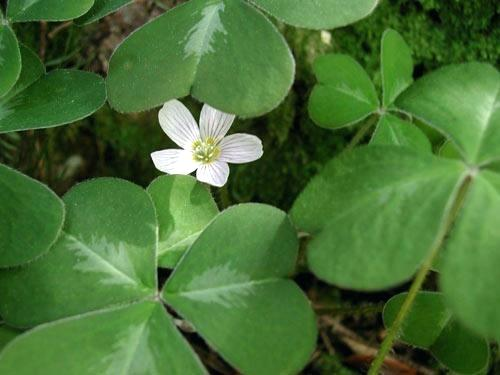oxalis: (4, 155, 310, 375), (333, 36, 500, 355), (105, 10, 308, 108)
